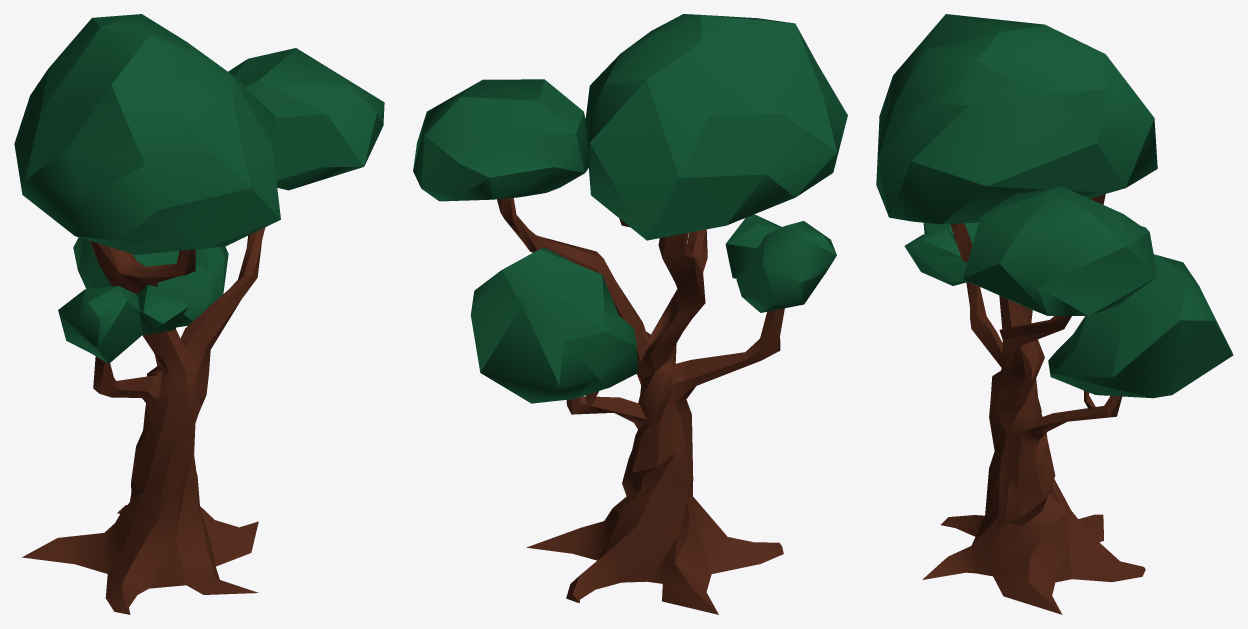
Rendered from Tree_4b.fbx.
3 renders of one model, left to right at view 1: azimuth 30°, elevation 25°; view 2: azimuth 150°, elevation 25°; view 3: azimuth 270°, elevation 25°, orthographic. The views are drawn at different scales.
Parts seen in each view (by area): view 1: Tree_4b; view 2: Tree_4b; view 3: Tree_4b.
Boxes of the visible parts, <box> form: Tree_4b: <box>14,14,384,614</box>; Tree_4b: <box>413,14,847,614</box>; Tree_4b: <box>876,14,1233,614</box>.
Size of the model in its own units: 167 by 224 by 140.
